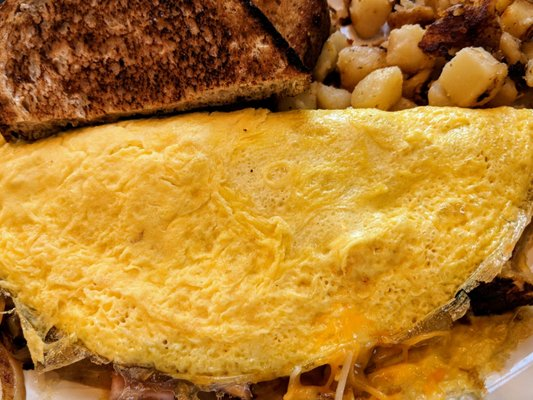soup: (0, 101, 533, 399)
